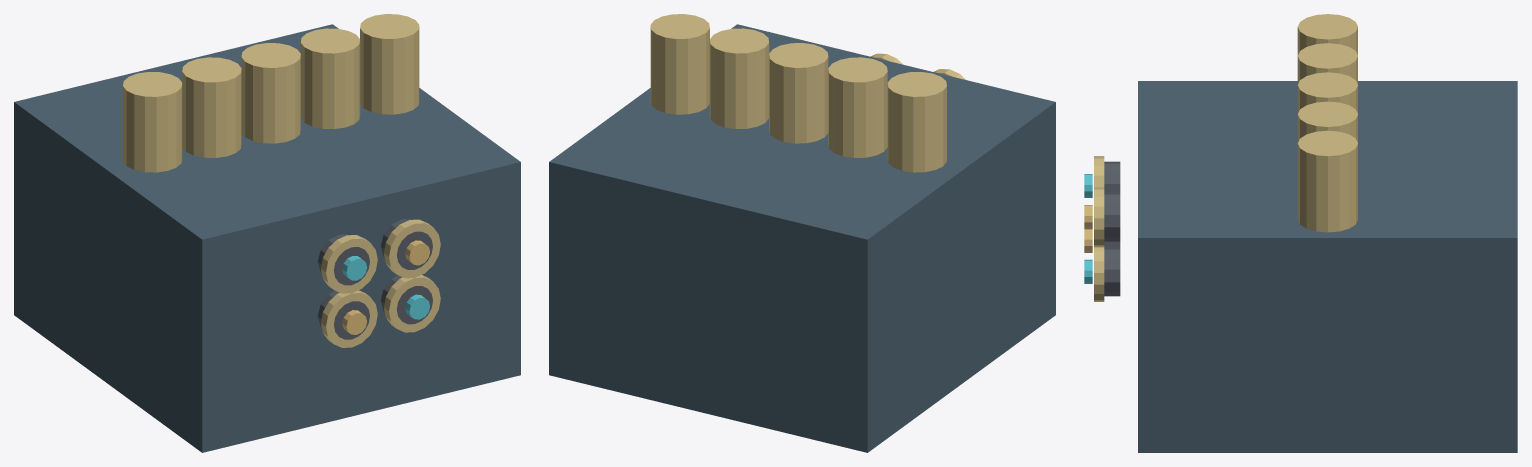
The model's file is 51_L82_AvionicsSensorSignalEmulator.glb.
The picture shows the model from 3 angles, left to right: view 1: azimuth 30°, elevation 25°; view 2: azimuth 150°, elevation 25°; view 3: azimuth 270°, elevation 25°; orthographic projection.
Parts seen in each view (by area): view 1: AvionicsSensorSignalEmulator_Node_0000, AvionicsSensorSignalEmulator_Node_0004, AvionicsSensorSignalEmulator_Node_0005, AvionicsSensorSignalEmulator_Node_0002, AvionicsSensorSignalEmulator_Node_0003, AvionicsSensorSignalEmulator_Node_0001, AvionicsSensorSignalEmulator_Node_0023, AvionicsSensorSignalEmulator_Node_0020, AvionicsSensorSignalEmulator_Node_0014, AvionicsSensorSignalEmulator_Node_0017, AvionicsSensorSignalEmulator_Node_0019, AvionicsSensorSignalEmulator_Node_0022 (+2 smaller); view 2: AvionicsSensorSignalEmulator_Node_0000, AvionicsSensorSignalEmulator_Node_0004, AvionicsSensorSignalEmulator_Node_0005, AvionicsSensorSignalEmulator_Node_0002, AvionicsSensorSignalEmulator_Node_0003, AvionicsSensorSignalEmulator_Node_0001; view 3: AvionicsSensorSignalEmulator_Node_0000, AvionicsSensorSignalEmulator_Node_0005, AvionicsSensorSignalEmulator_Node_0001, AvionicsSensorSignalEmulator_Node_0004, AvionicsSensorSignalEmulator_Node_0002, AvionicsSensorSignalEmulator_Node_0003, AvionicsSensorSignalEmulator_Node_0016, AvionicsSensorSignalEmulator_Node_0022, AvionicsSensorSignalEmulator_Node_0023, AvionicsSensorSignalEmulator_Node_0017, AvionicsSensorSignalEmulator_Node_0019.
Boxes of the visible parts, x1,y1,x2,y2 form: AvionicsSensorSignalEmulator_Node_0000: [14, 24, 520, 452]; AvionicsSensorSignalEmulator_Node_0004: [300, 28, 360, 128]; AvionicsSensorSignalEmulator_Node_0005: [360, 14, 419, 114]; AvionicsSensorSignalEmulator_Node_0002: [182, 57, 241, 157]; AvionicsSensorSignalEmulator_Node_0003: [241, 43, 300, 143]; AvionicsSensorSignalEmulator_Node_0001: [123, 72, 182, 172]; AvionicsSensorSignalEmulator_Node_0023: [384, 219, 440, 278]; AvionicsSensorSignalEmulator_Node_0020: [321, 235, 377, 293]; AvionicsSensorSignalEmulator_Node_0014: [321, 290, 377, 347]; AvionicsSensorSignalEmulator_Node_0017: [384, 275, 440, 332]; AvionicsSensorSignalEmulator_Node_0019: [318, 234, 369, 285]; AvionicsSensorSignalEmulator_Node_0022: [380, 219, 432, 269]; AvionicsSensorSignalEmulator_Node_0000: [549, 24, 1055, 452]; AvionicsSensorSignalEmulator_Node_0004: [709, 28, 769, 128]; AvionicsSensorSignalEmulator_Node_0005: [650, 14, 709, 114]; AvionicsSensorSignalEmulator_Node_0002: [828, 57, 887, 157]; AvionicsSensorSignalEmulator_Node_0003: [769, 43, 828, 143]; AvionicsSensorSignalEmulator_Node_0001: [887, 72, 946, 172]; AvionicsSensorSignalEmulator_Node_0000: [1138, 81, 1517, 452]; AvionicsSensorSignalEmulator_Node_0005: [1297, 130, 1357, 232]; AvionicsSensorSignalEmulator_Node_0001: [1297, 14, 1357, 55]; AvionicsSensorSignalEmulator_Node_0004: [1297, 101, 1357, 142]; AvionicsSensorSignalEmulator_Node_0002: [1297, 43, 1357, 84]; AvionicsSensorSignalEmulator_Node_0003: [1297, 72, 1357, 113]; AvionicsSensorSignalEmulator_Node_0016: [1104, 247, 1120, 296]; AvionicsSensorSignalEmulator_Node_0022: [1104, 192, 1120, 241]; AvionicsSensorSignalEmulator_Node_0023: [1094, 187, 1104, 247]; AvionicsSensorSignalEmulator_Node_0017: [1094, 247, 1104, 301]; AvionicsSensorSignalEmulator_Node_0019: [1104, 161, 1120, 192].
Size of the model in its own units: 0.86 by 0.745 by 1.01.
